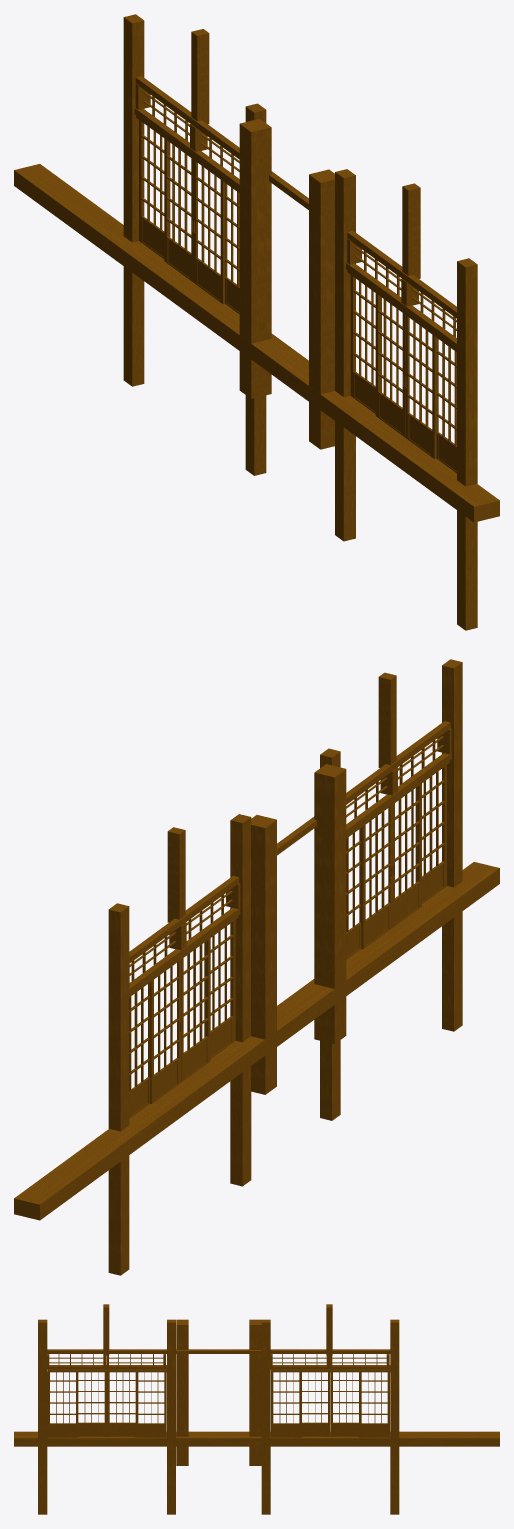
File: doujou_wood_right.obj
3 views of the same model, one above another, from view 1: azimuth 30°, elevation 25°; view 2: azimuth 150°, elevation 25°; view 3: azimuth 270°, elevation 25° (orthographic). The views are drawn at different scales.
Visible parts, largest first — view 1: 立方体.424; view 2: 立方体.424; view 3: 立方体.424.
Boxes of the visible parts, left/top/right/bottom form: 立方体.424: left=14, top=14, right=499, bottom=630; 立方体.424: left=14, top=659, right=499, bottom=1275; 立方体.424: left=14, top=1304, right=499, bottom=1514.
Bounding box in the file's own units: 25.26 × 307 × 650.
Materials: 1 (1 with a texture image).
